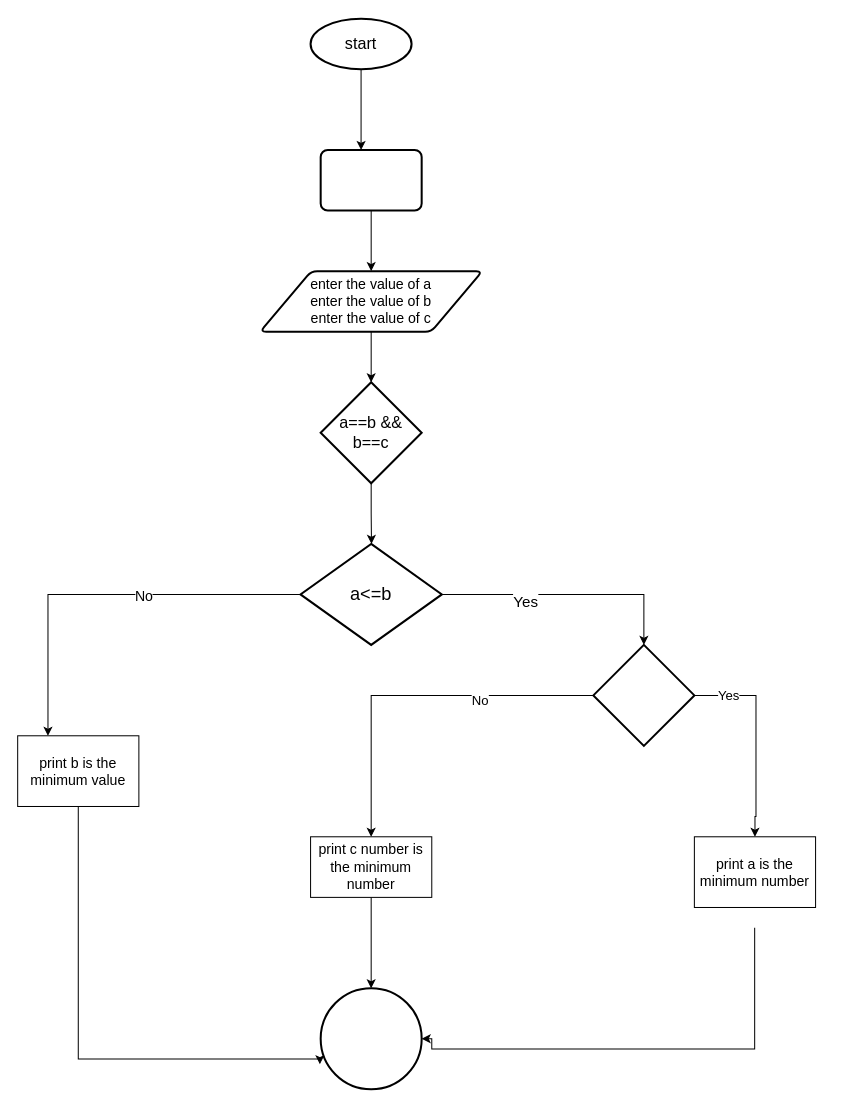
Image size: 841x1107. Some labels were removed from this diagram. The shapes that lost their labels are listed below. From the top down, each one's box as (x1, y1, x2, y2) in pixels, then its label:
(319, 148, 422, 211): first number second number third number
(592, 643, 695, 746): a<=c
(319, 987, 422, 1090): end
